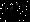person: (11, 5, 18, 17), (4, 4, 10, 16)
